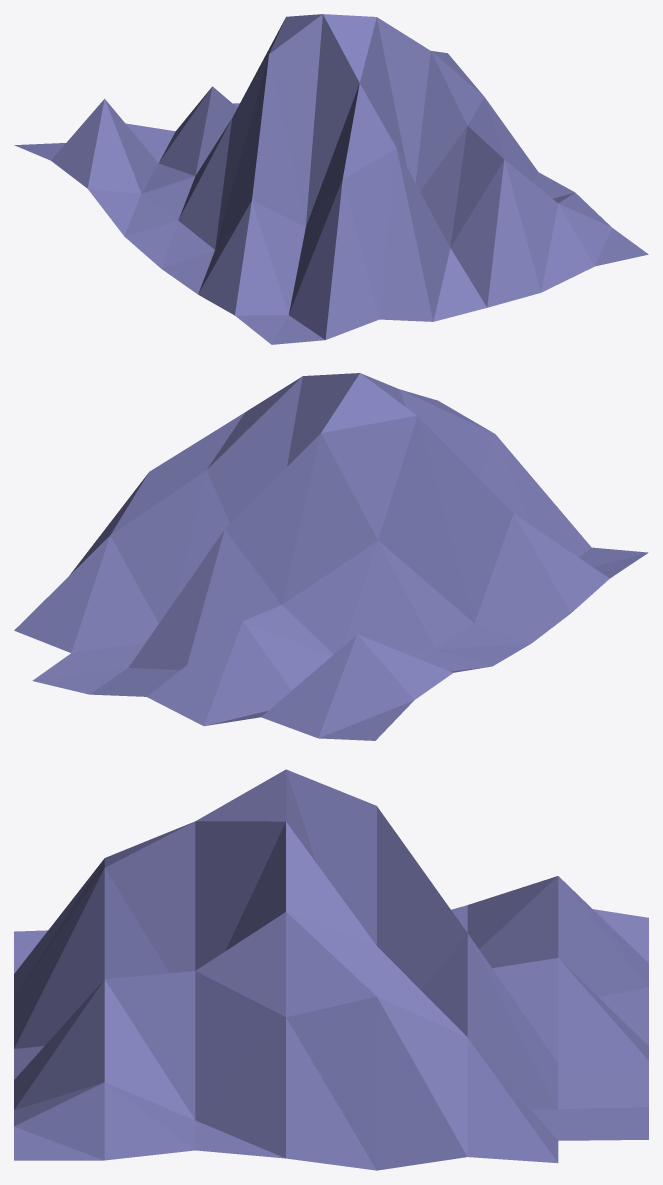
Rendered from SM_Ground_02.fbx.
3 views of the same model, one above another, from view 1: azimuth 30°, elevation 25°; view 2: azimuth 150°, elevation 25°; view 3: azimuth 270°, elevation 25° (orthographic). The views are drawn at different scales.
Parts seen in each view (by area): view 1: Plane001; view 2: Plane001; view 3: Plane001.
Part boxes in pixels (left/top/right/bottom): Plane001: left=14, top=14, right=648, bottom=344; Plane001: left=14, top=373, right=648, bottom=740; Plane001: left=14, top=769, right=648, bottom=1170.
Size of the model in its own units: 152 by 87.43 by 180.
